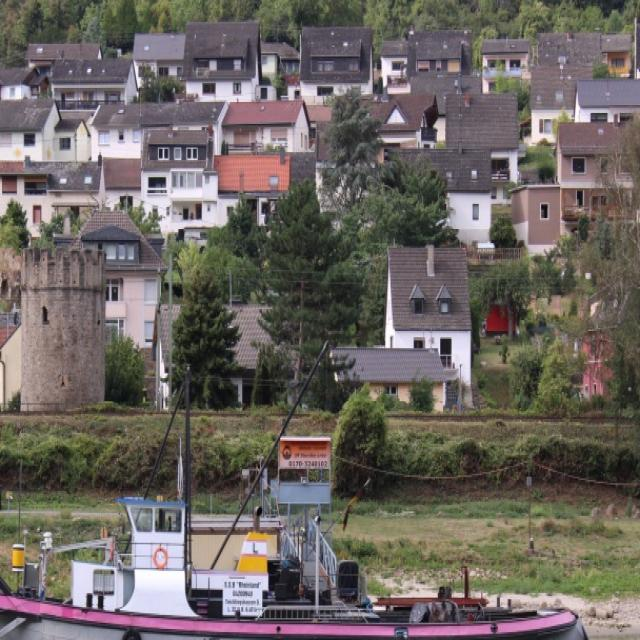tugboat: (1, 481, 600, 640)
